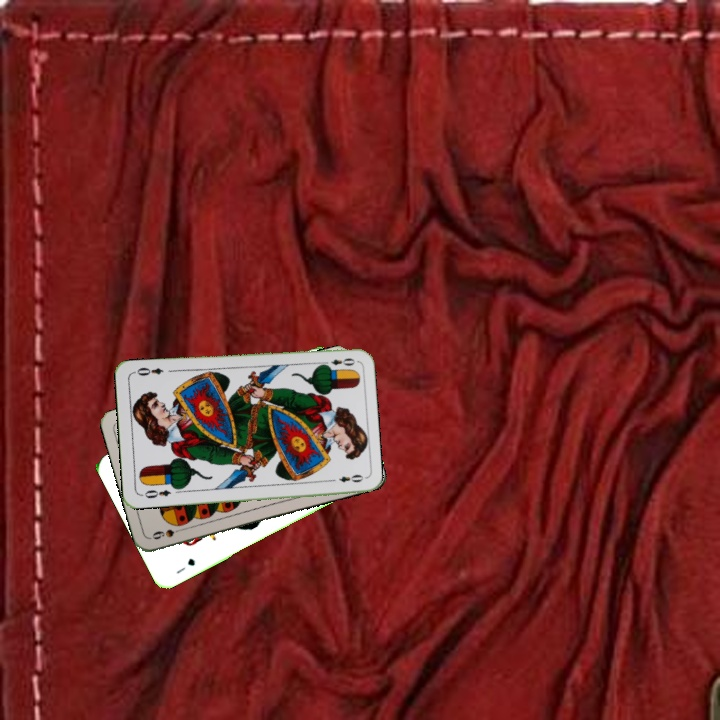EO: (318, 354, 358, 370), (141, 486, 173, 501)
GU: (172, 554, 198, 576)
S9: (148, 524, 188, 542)
